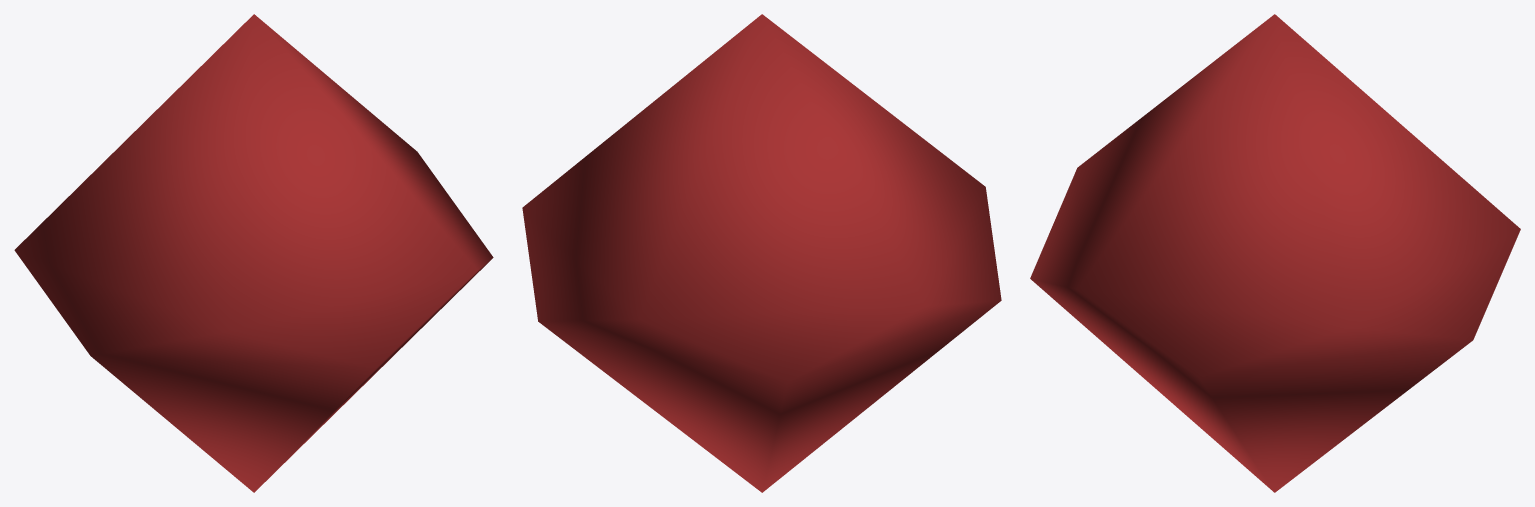
The model's file is dado_10_caras.dae.
3 views of the same model, side by side, from view 1: azimuth 30°, elevation 25°; view 2: azimuth 150°, elevation 25°; view 3: azimuth 270°, elevation 25° (orthographic).
Visible parts, largest first — view 1: dado_10_obj; view 2: dado_10_obj; view 3: dado_10_obj.
Part boxes in pixels (bbox=[...]): dado_10_obj: bbox=[14, 14, 493, 492]; dado_10_obj: bbox=[522, 14, 1001, 492]; dado_10_obj: bbox=[1030, 14, 1520, 492].
Bounding box in the file's own units: 5.91 × 6.23 × 6.7.
